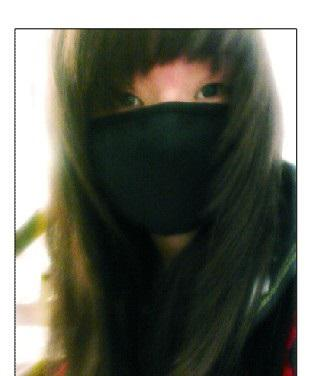OK: (74, 50, 256, 232)
